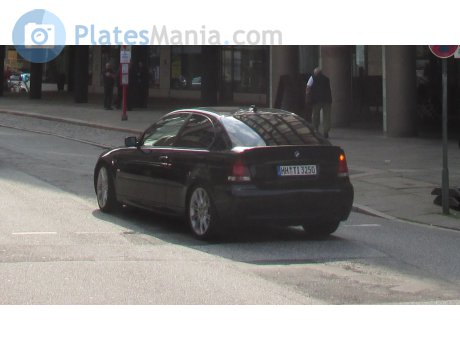License Plates: (278, 162, 316, 171)
